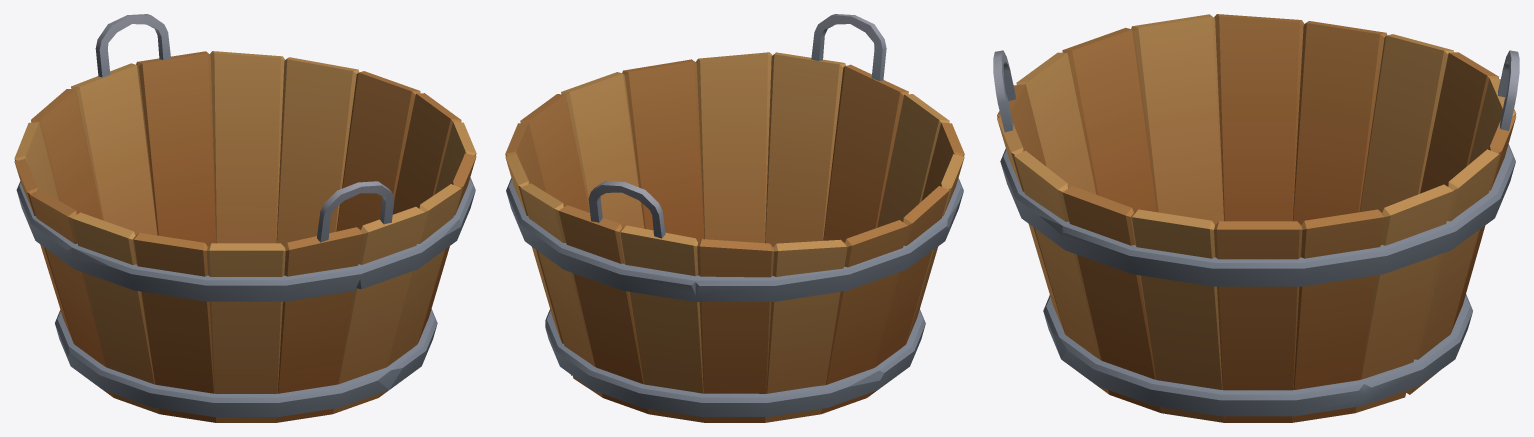
Rendered from Basin_A.glb.
The picture shows the model from 3 angles, left to right: view 1: azimuth 30°, elevation 25°; view 2: azimuth 150°, elevation 25°; view 3: azimuth 270°, elevation 25°; orthographic projection. The views are drawn at different scales.
Visible parts, largest first — view 1: Basin_A; view 2: Basin_A; view 3: Basin_A.
Boxes of the visible parts, x1,y1,x2,y2 form: Basin_A: (14,14,476,422); Basin_A: (505,14,964,422); Basin_A: (993,14,1519,422).
Size of the model in its own units: 1.14 by 0.6978 by 1.17.
Materials: 2 (2 with a texture image).
